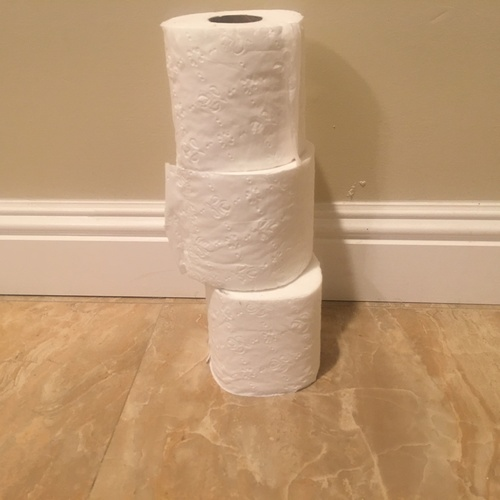roll: (159, 9, 304, 168), (163, 138, 315, 288), (207, 250, 324, 396)
